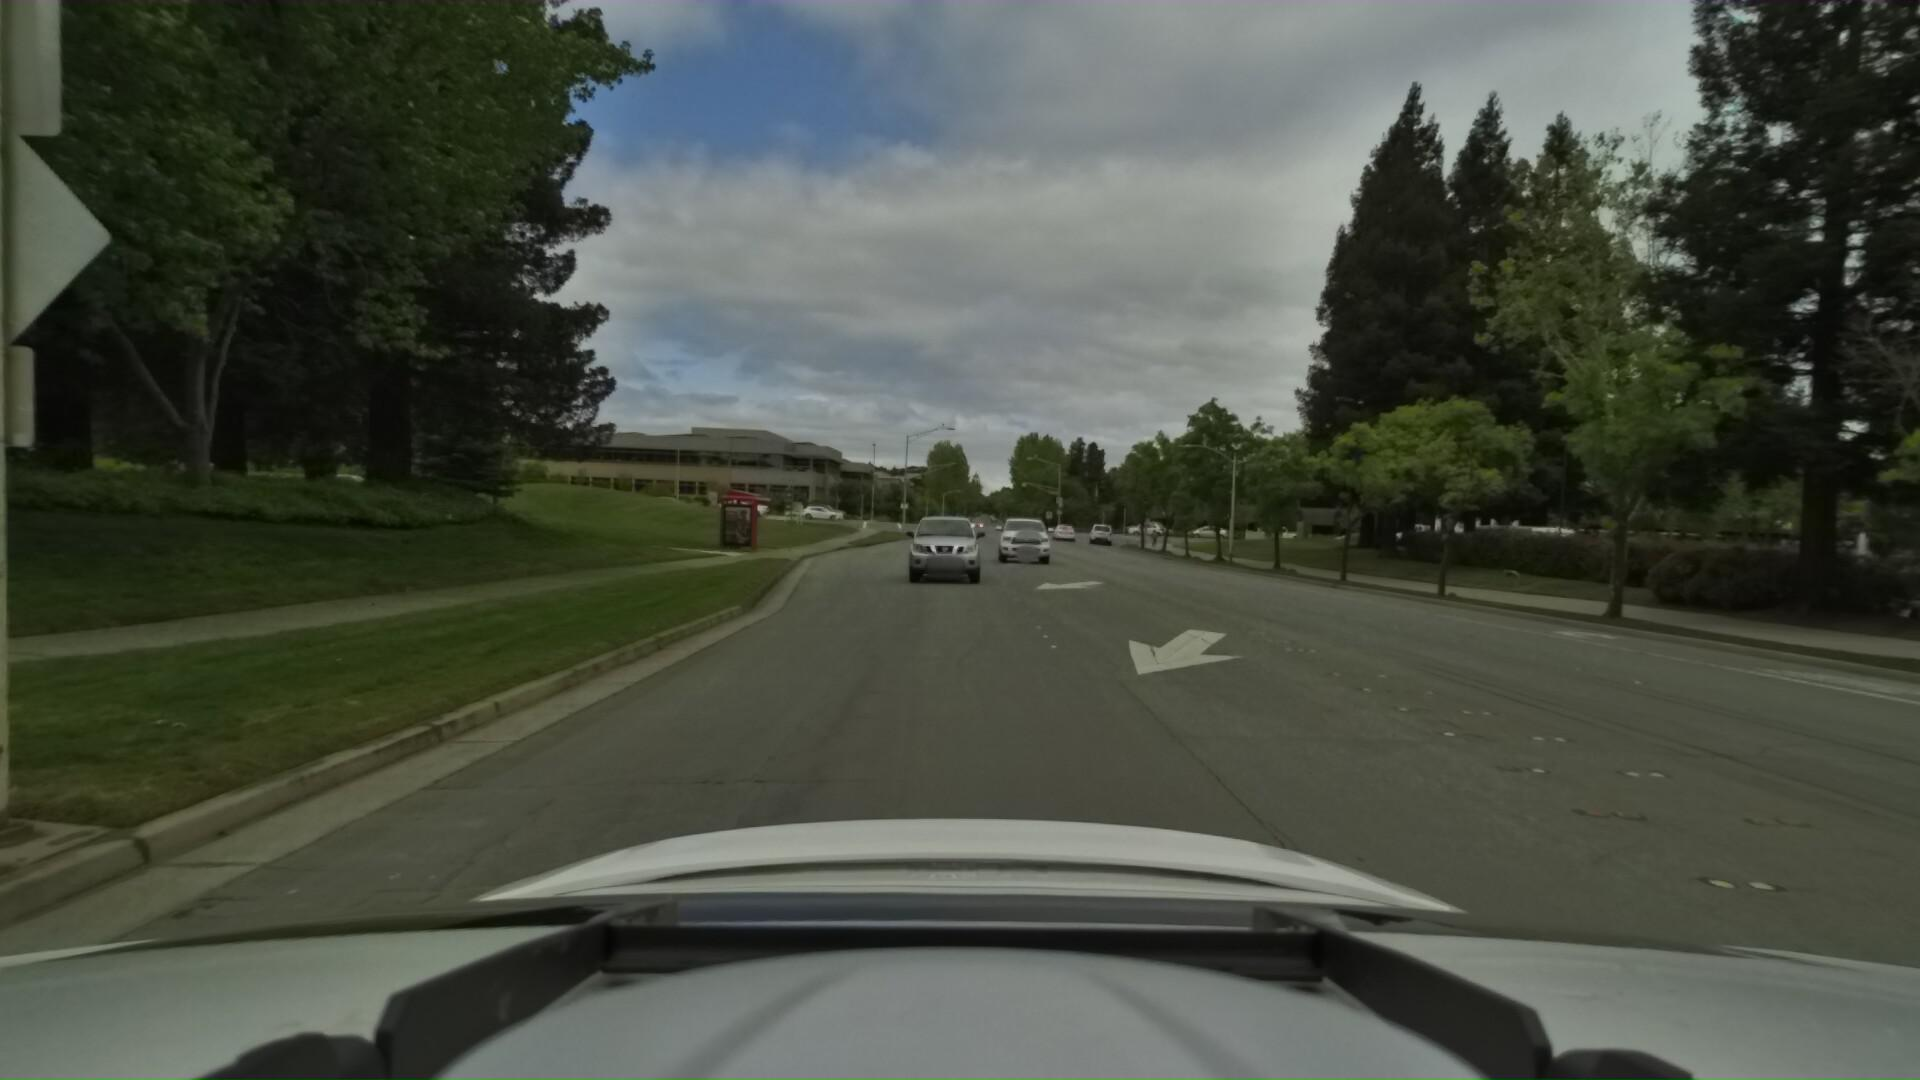car: (895, 506, 986, 593), (996, 512, 1058, 566)
other_vehicle: (1460, 520, 1575, 575)
